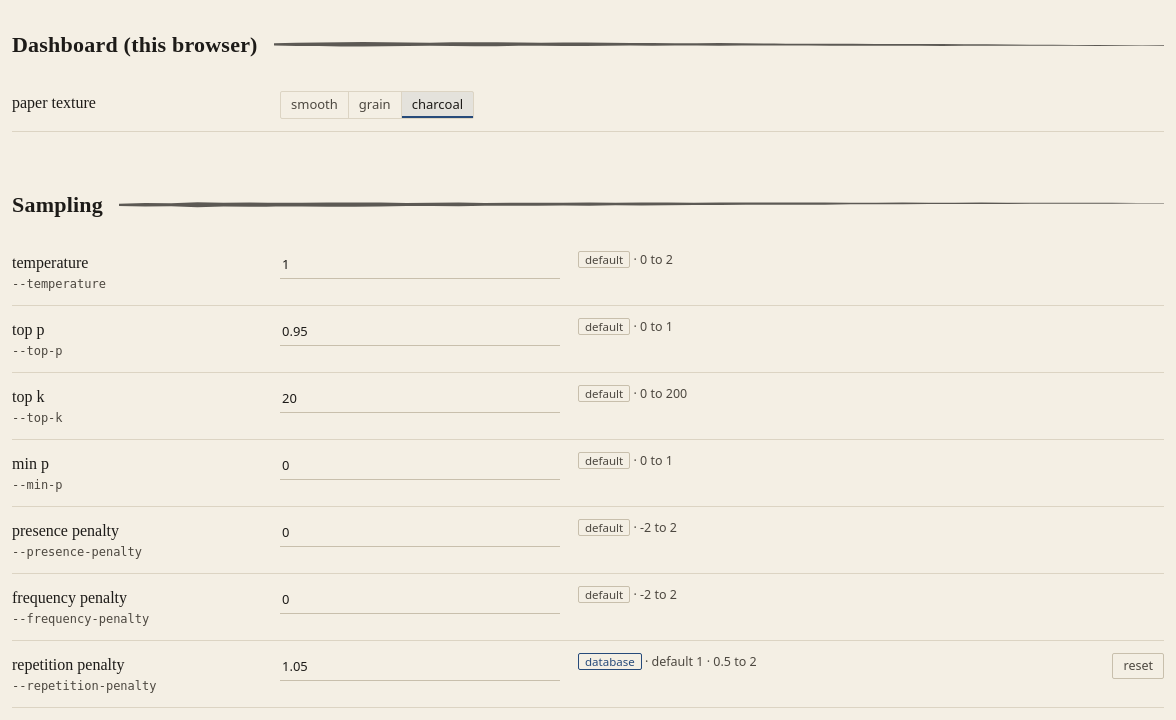
Test case: SettingsView › a valid edit is applied, marked as database, logged, and can be reset
Step 1. Replace the text in the number field named "top p" with "0.8" → (420, 332), box x1=280 y1=318 x2=560 y2=346
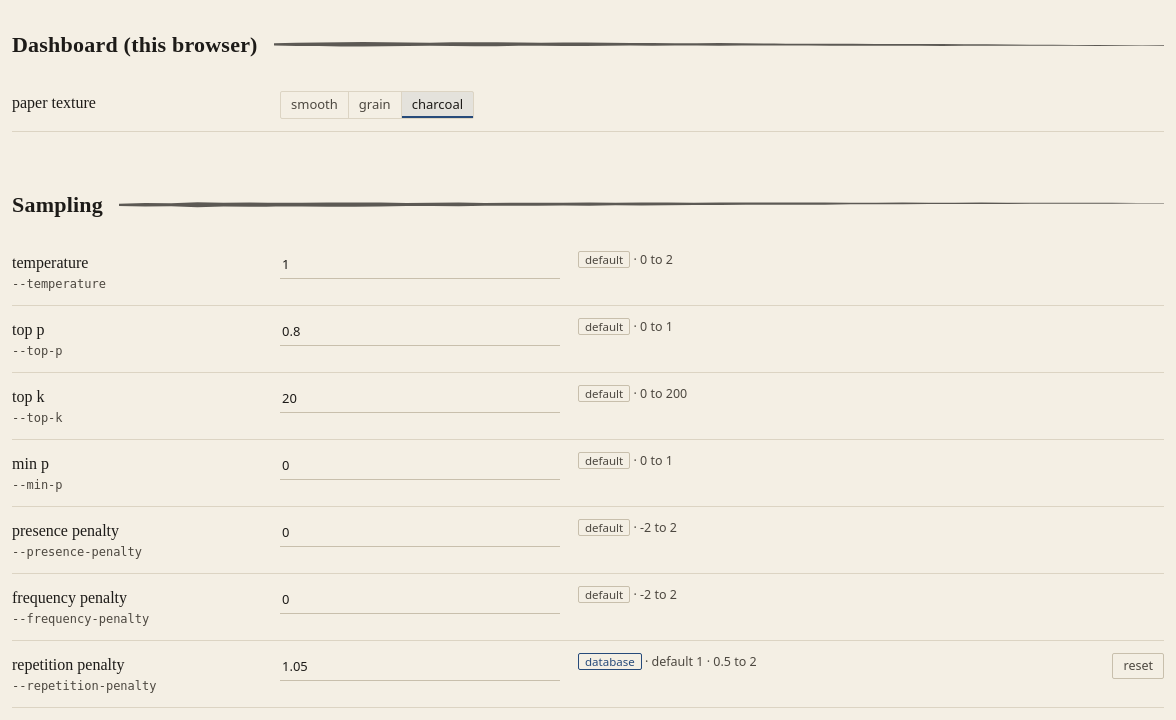
Step 2. Press Enter in the number field named "top p", box x1=280 y1=318 x2=560 y2=346
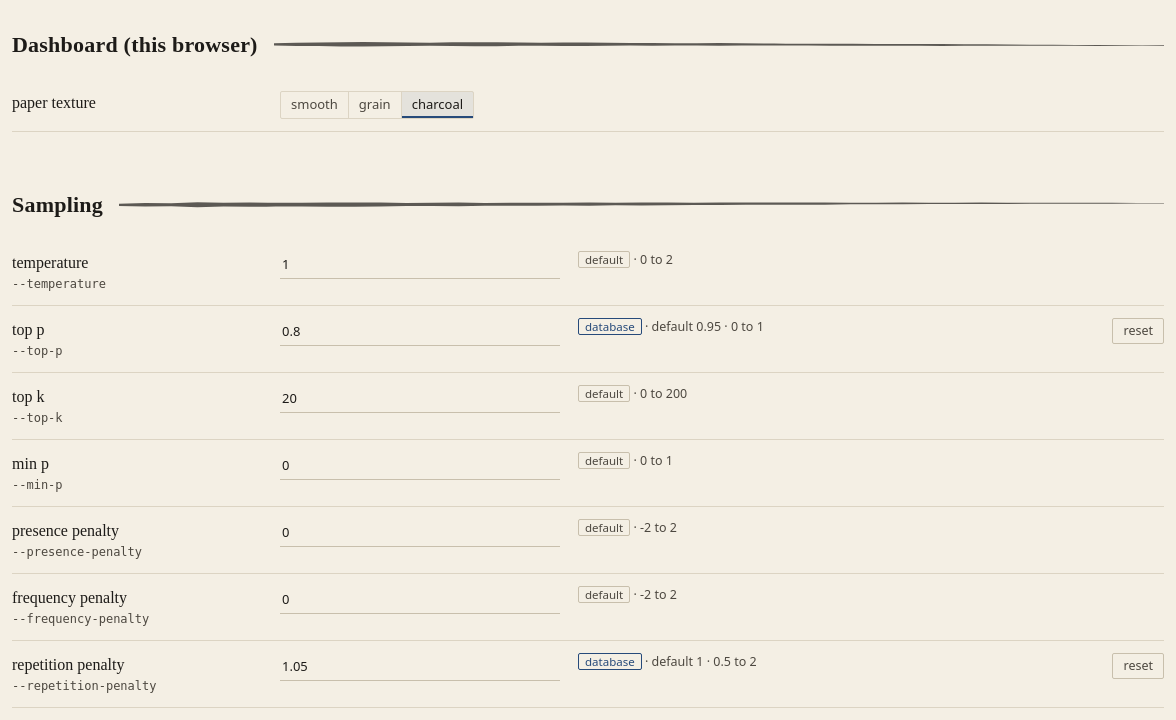
Now the element with class "set-row" shows "database", box x1=585 y1=318 x2=635 y2=334
Step 3. Click the button "reset" in the row of "· default 0.95" → click(1138, 331), box x1=1112 y1=318 x2=1164 y2=344
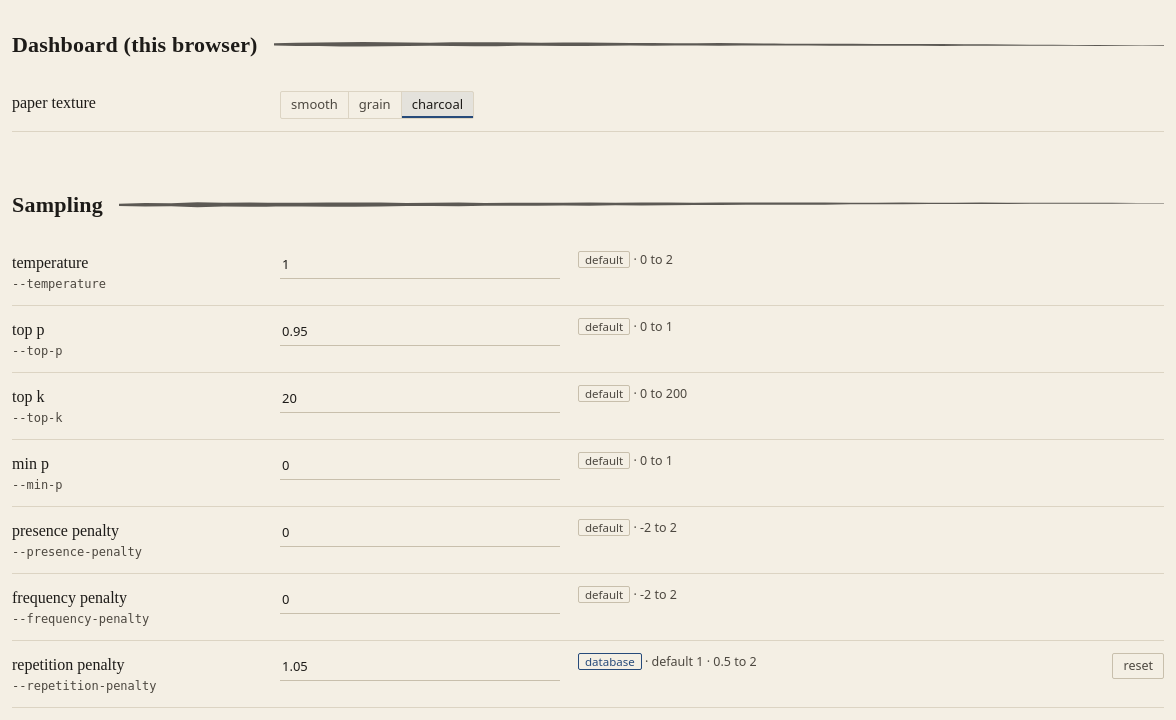
Now the element with class "set-row" no longer shows "database"
